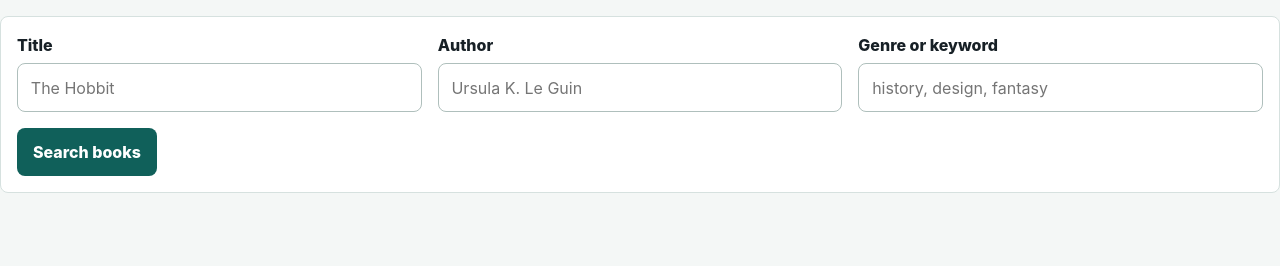
Test case: SearchForm › requires at least one field before submitting
Click the button "Search books": (87, 152) left=17, top=128, right=157, bottom=176
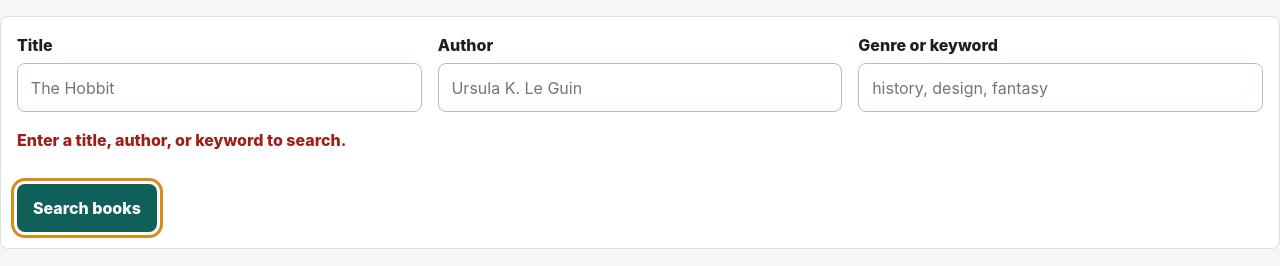
Expected: the text "Enter a title, author, or keyword to search." is shown, left=17, top=130, right=346, bottom=150
